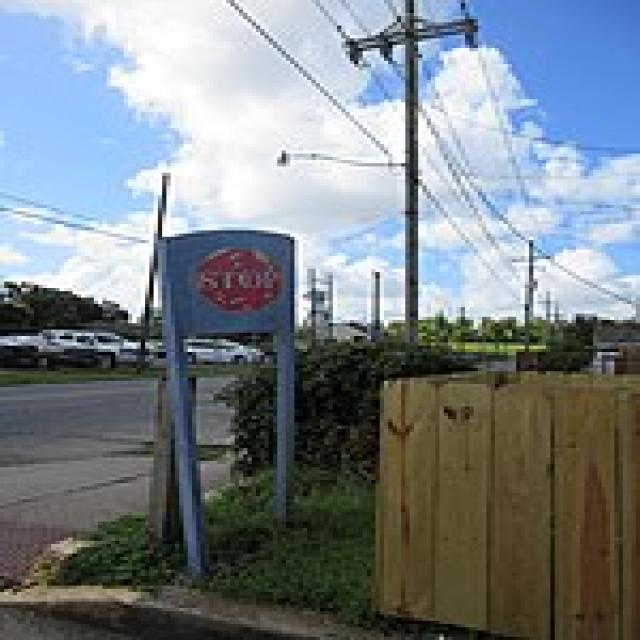Traffic sign: (117, 204, 350, 396)
